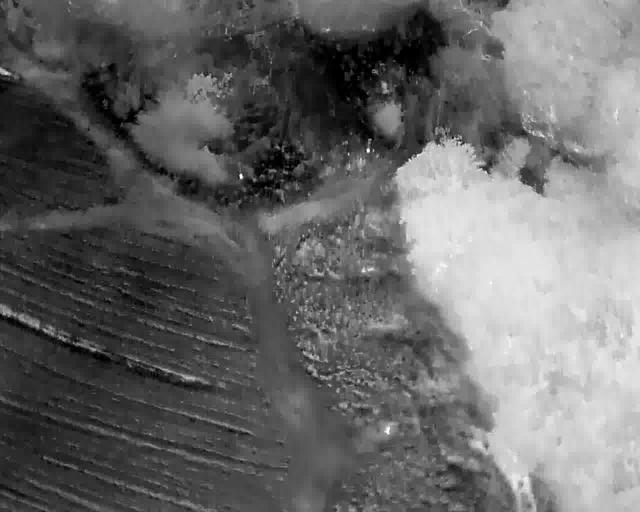person: (384, 427, 391, 435)
